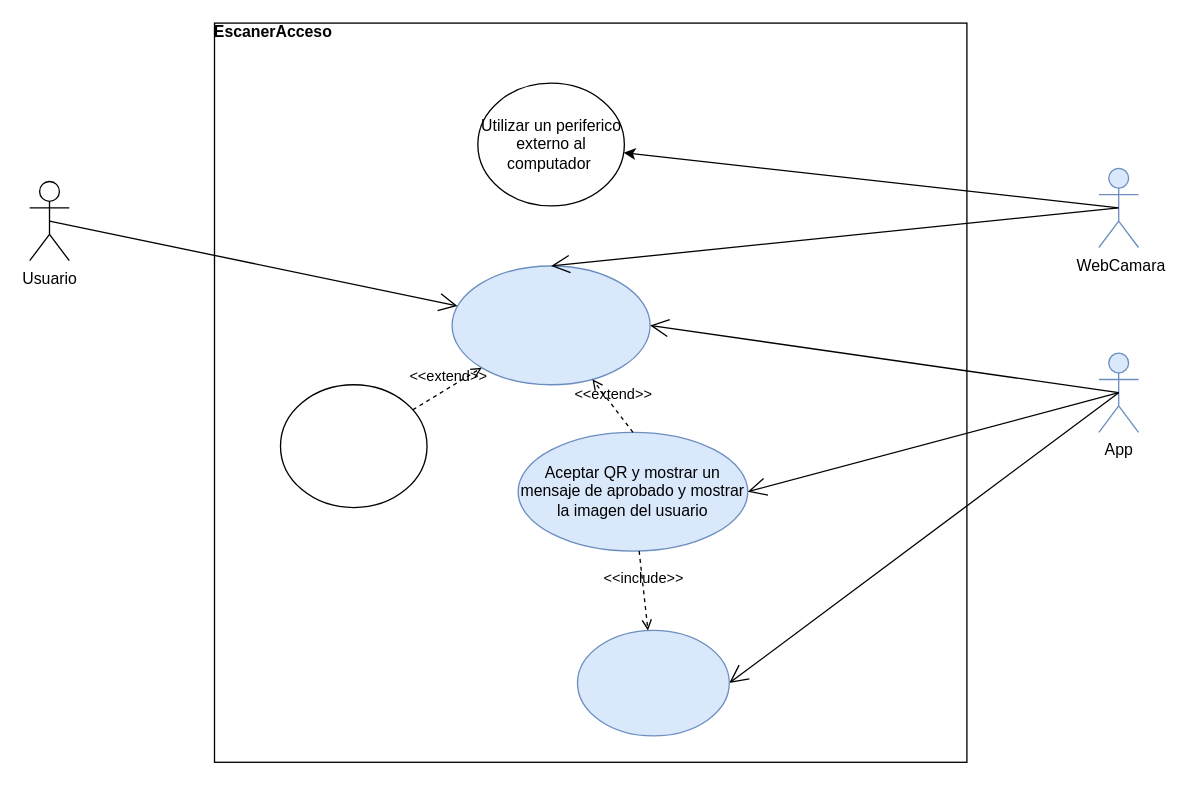
The diagram is 1188 pixels wide and 785 high, and some of its shapes have lost their labels. The box of each missing label's shape, as (x1, y1, x2, y2) in pixels:
Anotar en un archivo la hora de llegada: (576, 629, 729, 736)
Procesar la entrada de video de la camara para decodificar codigo QR: (451, 265, 650, 385)
Rechazar QR y mostrar un mensaje Acceso Denegado: (279, 383, 427, 508)
